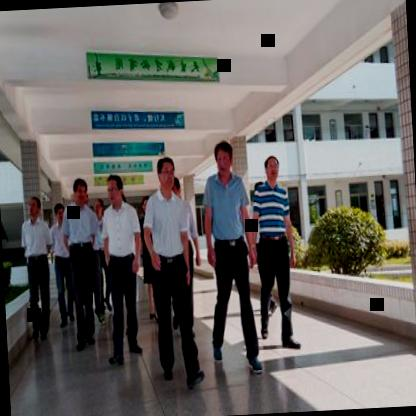head: (152, 150, 176, 193), (211, 137, 236, 177), (105, 170, 126, 207), (264, 150, 284, 184), (68, 175, 88, 206), (24, 192, 44, 223), (52, 199, 67, 228), (91, 196, 105, 224)
